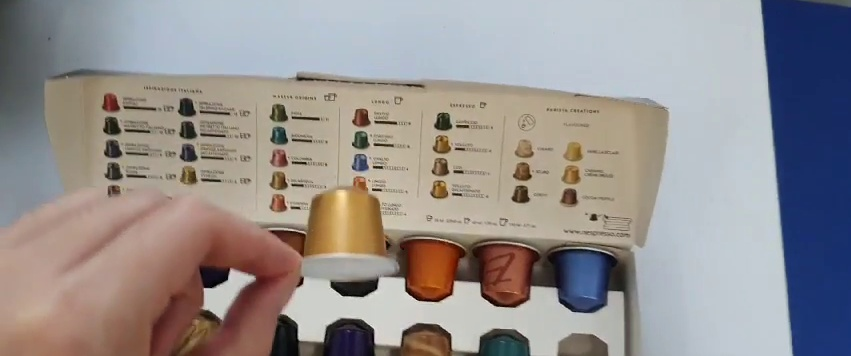capsule_8: (296, 188, 400, 286)
